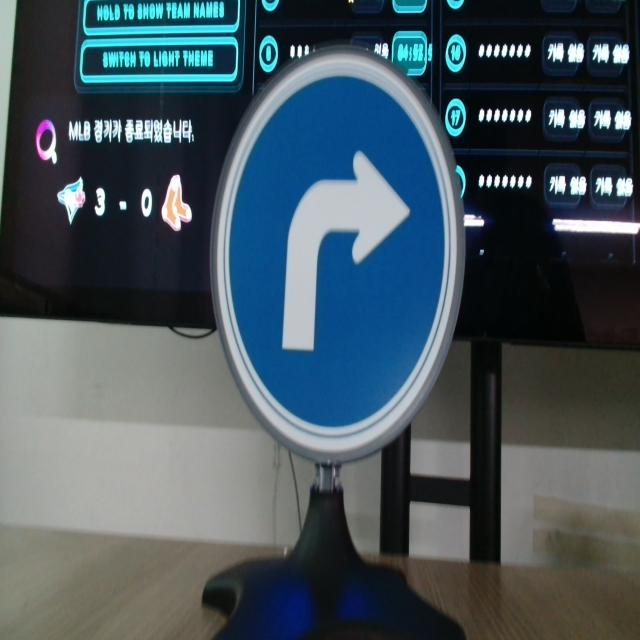right_dierection: (210, 48, 467, 467)
